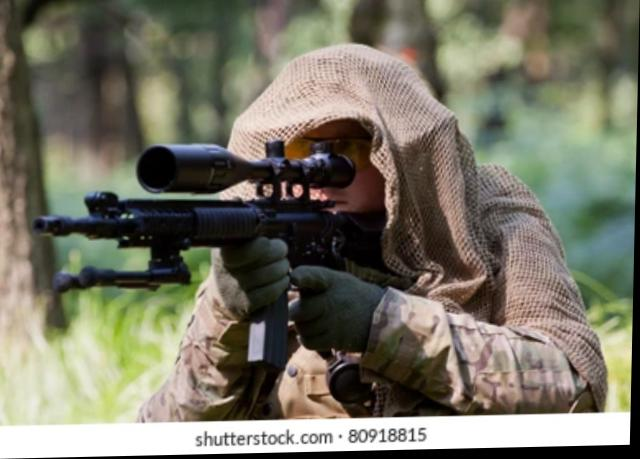other: (183, 54, 530, 399)
